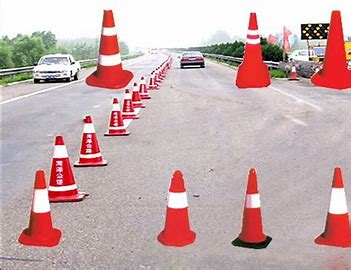traffic_cone: (133, 162, 207, 251), (223, 161, 285, 259), (218, 10, 278, 97), (83, 6, 142, 94), (12, 164, 64, 255), (298, 4, 349, 90), (41, 136, 89, 213), (315, 159, 351, 253), (65, 112, 108, 170), (96, 87, 132, 142), (122, 87, 143, 126)
